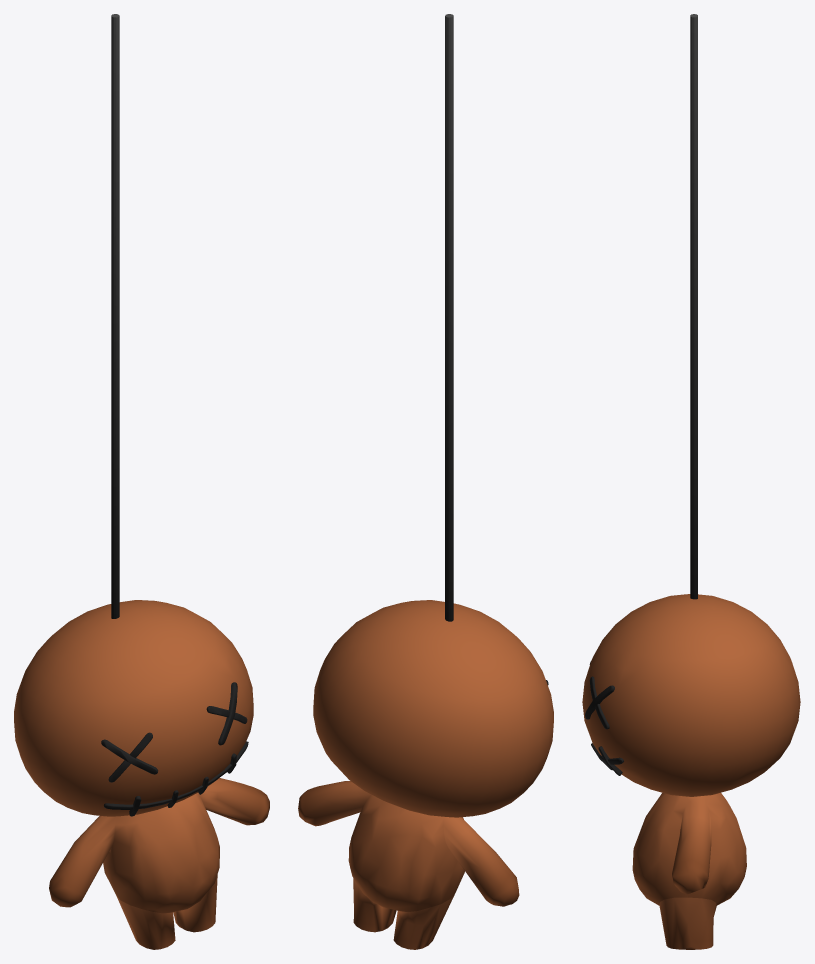
Rendered from Voodoo Doll.fbx.
3 renders of one model, left to right at view 1: azimuth 30°, elevation 25°; view 2: azimuth 150°, elevation 25°; view 3: azimuth 270°, elevation 25°, orthographic. The views are drawn at different scales.
Visible parts, largest first — view 1: Voodoo_Doll; view 2: Voodoo_Doll; view 3: Voodoo_Doll.
Part boxes in pixels (x1=…): Voodoo_Doll: x1=14, y1=14, x2=269, y2=949; Voodoo_Doll: x1=298, y1=14, x2=553, y2=949; Voodoo_Doll: x1=582, y1=14, x2=800, y2=949.
Size of the model in its own units: 164 by 610 by 133.
